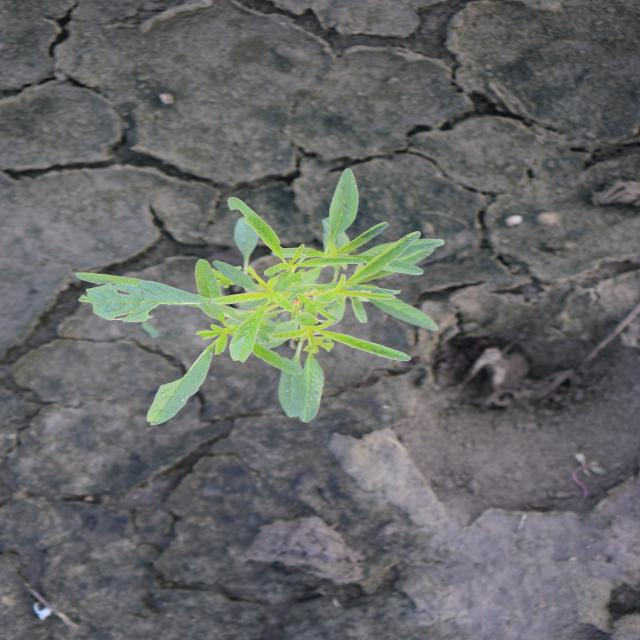Waterhemp: (72, 167, 448, 425)
